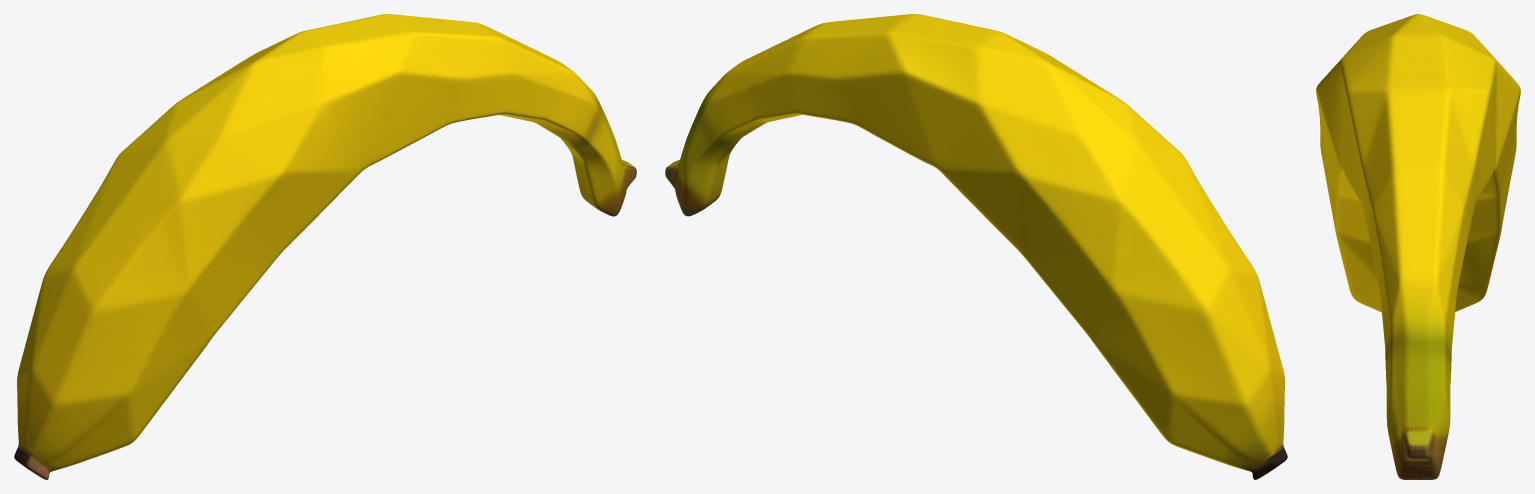
Rendered from banana2.glb.
3 views of the same model, side by side, from view 1: azimuth 30°, elevation 25°; view 2: azimuth 150°, elevation 25°; view 3: azimuth 270°, elevation 25° (orthographic). The views are drawn at different scales.
Size of the model in its own units: 1.9 by 1.1 by 0.4789.
1 material, 1 textured.
